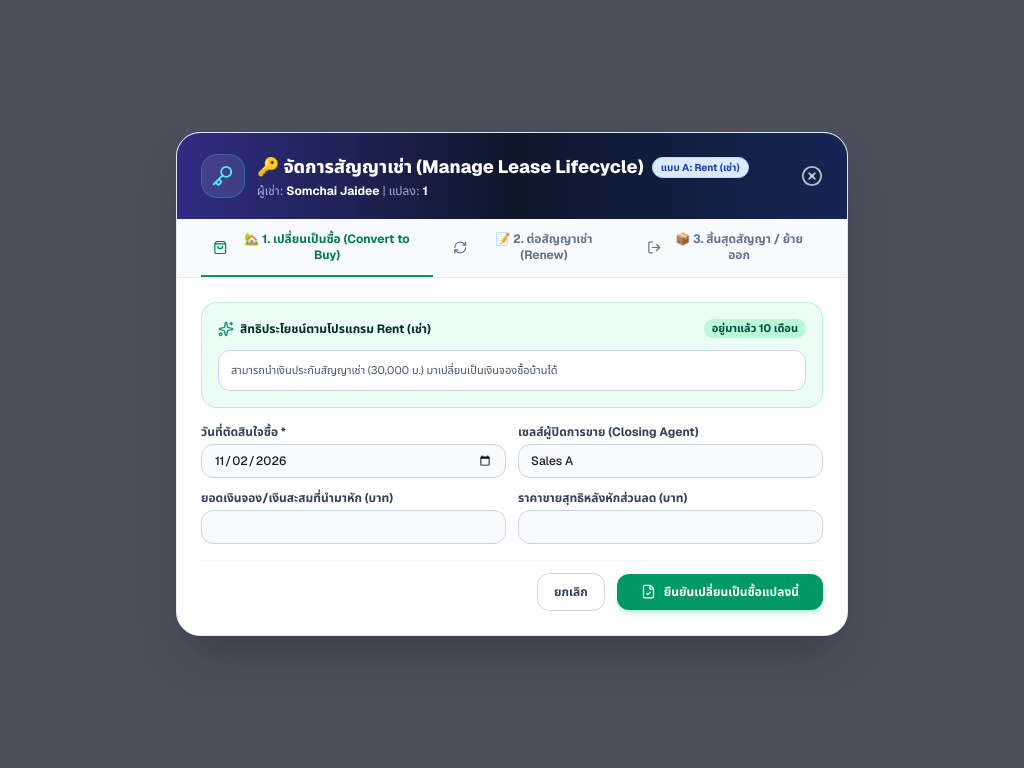
Test case: Rental Parity and Synchronization Defect Tests › Issue A: Notes Retention and Idempotence › Finding E: stops and does not overwrite notes when reading fresh notes from database fails on move-out
Expected: the button "ยืนยันเปลี่ยนเป็นซื้อแปลงนี้" is enabled, [617,574,823,610]
Click the button "📦 3. สิ้นสุดสัญญา / ย้ายออก" at [729, 254], box [635,231,823,277]
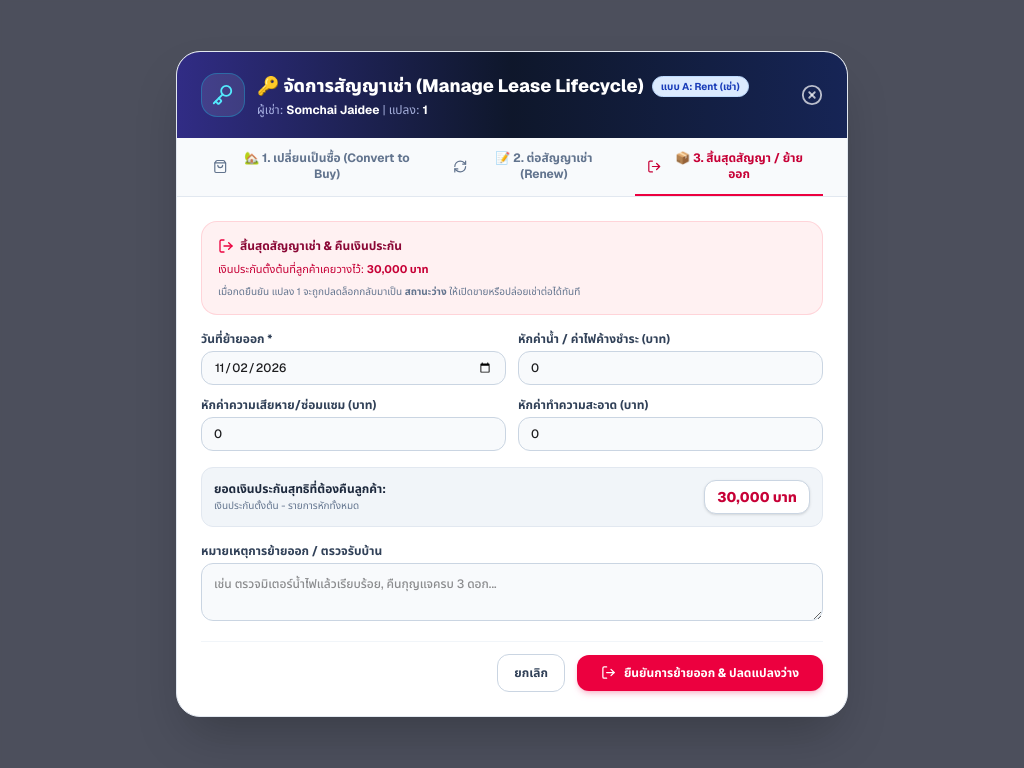
Submit the form named "ยืนยันการย้ายออก", box [201,221,823,692]
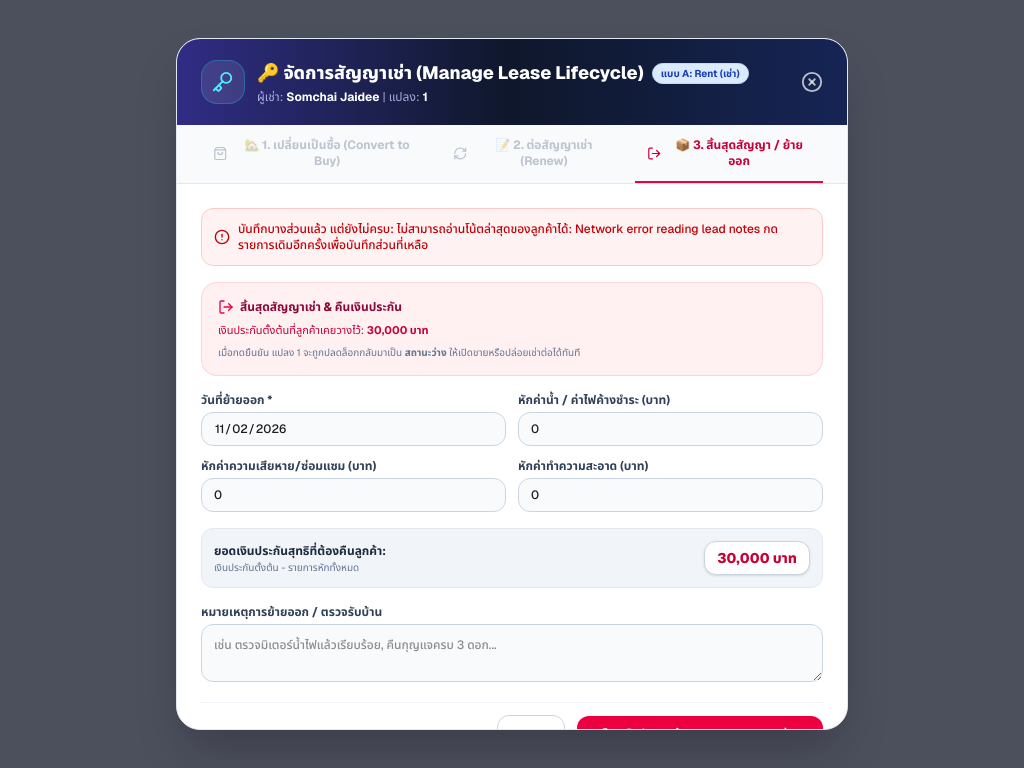
Now the text "ไม่สามารถอ่านโน้ตล่าสุดของลูกค้าได้" is shown, box [238,221,778,253]
